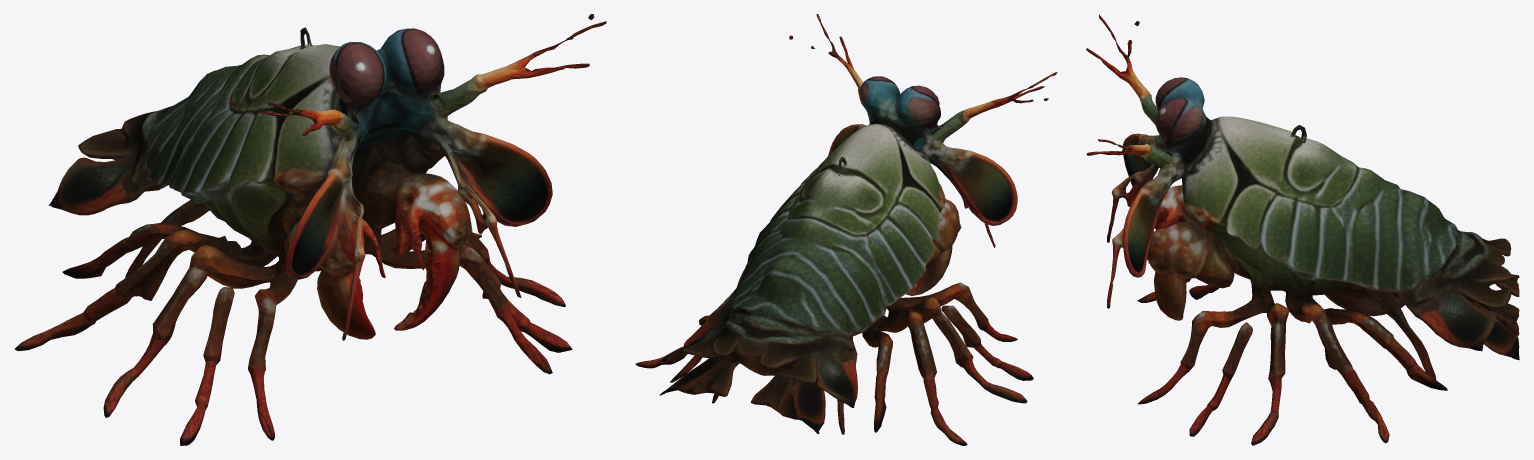
Rendered from 3dmantis.glb.
3 renders of one model, left to right at view 1: azimuth 30°, elevation 25°; view 2: azimuth 150°, elevation 25°; view 3: azimuth 270°, elevation 25°, orthographic. The views are drawn at different scales.
Parts seen in each view (by area): view 1: world; view 2: world; view 3: world.
Boxes of the visible parts, x1=… form: world: x1=14, y1=14, x2=606, y2=445; world: x1=635, y1=14, x2=1057, y2=445; world: x1=1086, y1=14, x2=1519, y2=445.
Bounding box in the file's own units: 0.9434 × 0.7407 × 1.
Materials: 1 (1 with a texture image).
